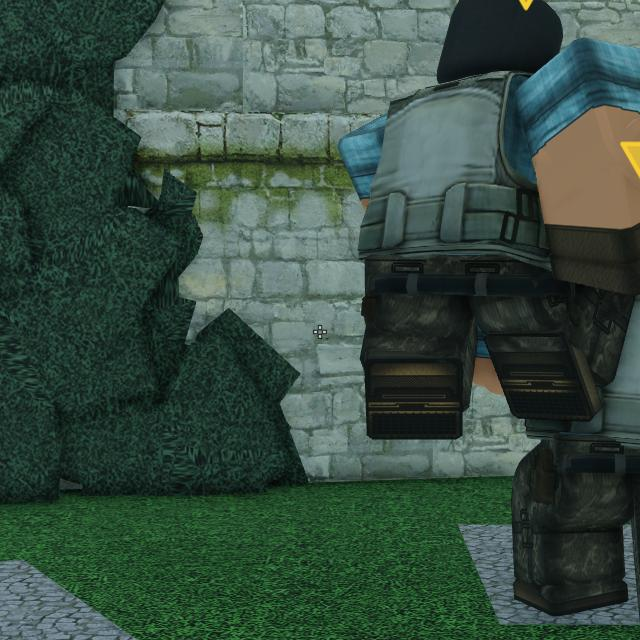Head: (436, 0, 564, 77)
Player: (341, 0, 640, 435)
